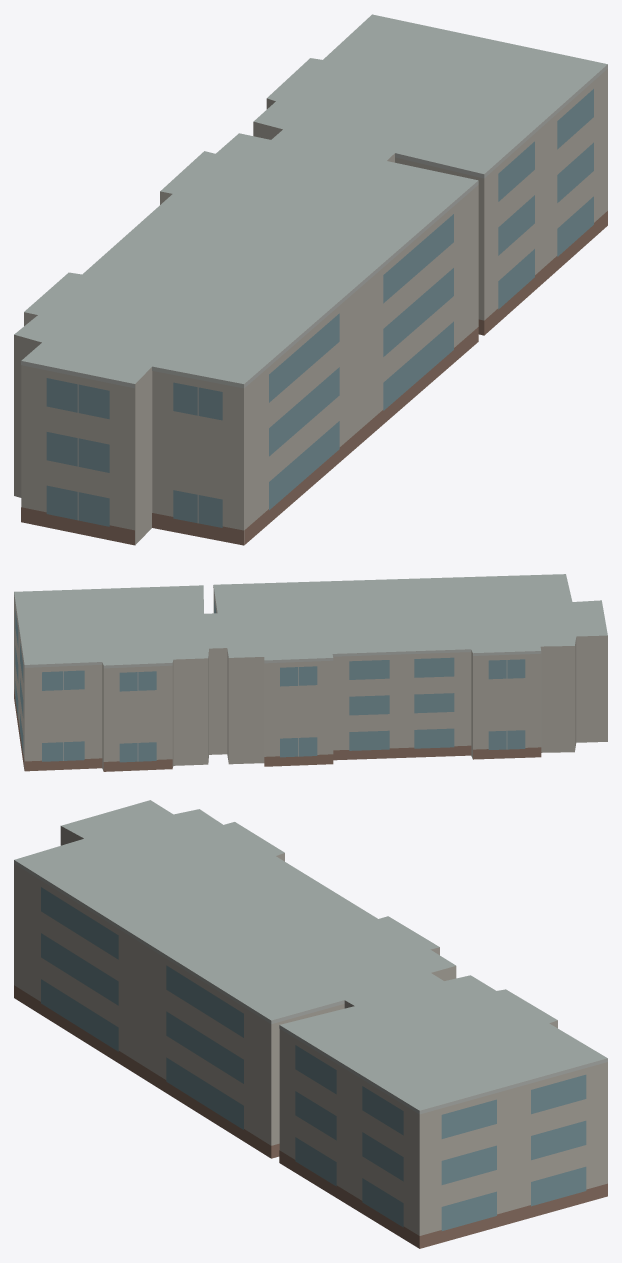
Rendered from survey-upis-32470402.glb.
3 renders of one model, top to bottom at view 1: azimuth 30°, elevation 25°; view 2: azimuth 150°, elevation 25°; view 3: azimuth 270°, elevation 25°, orthographic. The views are drawn at different scales.
Visible parts, largest first — view 1: survey-upis-32470402.tmp; view 2: survey-upis-32470402.tmp; view 3: survey-upis-32470402.tmp.
Part boxes in pixels (bbox=[...]): survey-upis-32470402.tmp: bbox=[14, 14, 607, 545]; survey-upis-32470402.tmp: bbox=[14, 574, 607, 771]; survey-upis-32470402.tmp: bbox=[14, 800, 607, 1248].
Size of the model in its own units: 44.17 by 9.15 by 35.67.
